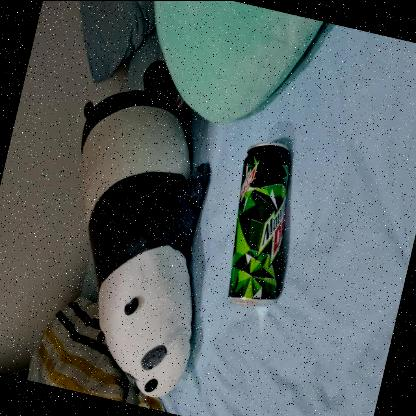Can: (228, 140, 292, 304)
